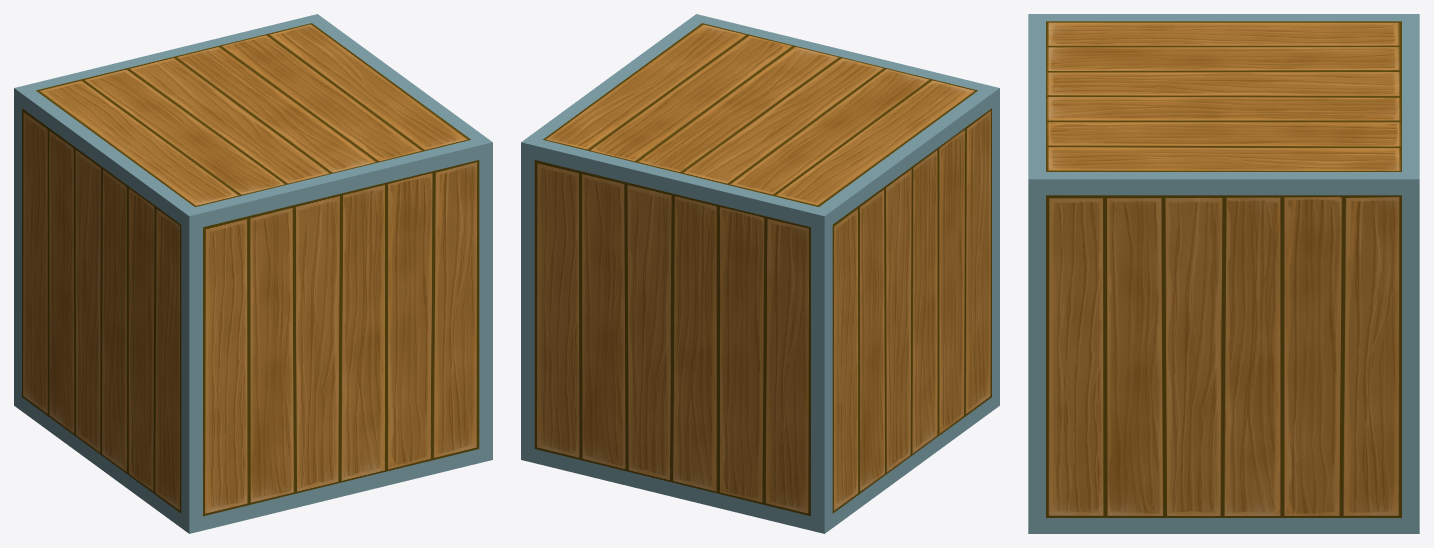
The model's file is brokenwoodcrate.fbx.
3 views of the same model, side by side, from view 1: azimuth 30°, elevation 25°; view 2: azimuth 150°, elevation 25°; view 3: azimuth 270°, elevation 25° (orthographic). The views are drawn at different scales.
Visible parts, largest first — view 1: BrokenWoodCrate.032, BrokenWoodCrate.014, BrokenWoodCrate.028, BrokenWoodCrate.030, BrokenWoodCrate.031, BrokenWoodCrate.029, BrokenWoodCrate.026, BrokenWoodCrate.015, BrokenWoodCrate.024, BrokenWoodCrate.027, BrokenWoodCrate.013, BrokenWoodCrate.025 (+15 smaller); view 2: BrokenWoodCrate.040, BrokenWoodCrate.017, BrokenWoodCrate.041, BrokenWoodCrate.042, BrokenWoodCrate.038, BrokenWoodCrate.039, BrokenWoodCrate.025, BrokenWoodCrate.013, BrokenWoodCrate.024, BrokenWoodCrate.027, BrokenWoodCrate.015, BrokenWoodCrate.026 (+15 smaller); view 3: BrokenWoodCrate.016, BrokenWoodCrate.033, BrokenWoodCrate.034, BrokenWoodCrate.035, BrokenWoodCrate.036, BrokenWoodCrate.037, BrokenWoodCrate.019, BrokenWoodCrate.020, BrokenWoodCrate.021, BrokenWoodCrate.022, BrokenWoodCrate.023, BrokenWoodCrate.018 (+7 smaller).
Boxes of the visible parts, box(x1,y1,x2,y2) form: BrokenWoodCrate.032: box(387, 171, 433, 471); BrokenWoodCrate.014: box(433, 160, 479, 459); BrokenWoodCrate.028: box(203, 216, 248, 516); BrokenWoodCrate.030: box(295, 193, 340, 493); BrokenWoodCrate.031: box(341, 182, 386, 482); BrokenWoodCrate.029: box(249, 205, 294, 504); BrokenWoodCrate.026: box(101, 167, 128, 474); BrokenWoodCrate.015: box(22, 108, 48, 416); BrokenWoodCrate.024: box(48, 128, 74, 435); BrokenWoodCrate.027: box(128, 186, 154, 494); BrokenWoodCrate.013: box(155, 206, 181, 513); BrokenWoodCrate.025: box(75, 147, 101, 454); BrokenWoodCrate.040: box(626, 182, 672, 482); BrokenWoodCrate.017: box(764, 216, 810, 516); BrokenWoodCrate.041: box(672, 193, 718, 493); BrokenWoodCrate.042: box(718, 204, 764, 504); BrokenWoodCrate.038: box(534, 160, 580, 459); BrokenWoodCrate.039: box(580, 171, 626, 470); BrokenWoodCrate.025: box(885, 167, 912, 474); BrokenWoodCrate.013: box(965, 108, 991, 416); BrokenWoodCrate.024: box(859, 186, 885, 494); BrokenWoodCrate.027: box(939, 128, 965, 435); BrokenWoodCrate.015: box(832, 206, 858, 513); BrokenWoodCrate.026: box(912, 147, 938, 454); BrokenWoodCrate.016: box(1342, 195, 1401, 517); BrokenWoodCrate.033: box(1046, 195, 1105, 517); BrokenWoodCrate.034: box(1105, 195, 1164, 517); BrokenWoodCrate.035: box(1164, 195, 1223, 517); BrokenWoodCrate.036: box(1224, 195, 1283, 517); BrokenWoodCrate.037: box(1283, 195, 1342, 517); BrokenWoodCrate.019: box(1046, 121, 1401, 146); BrokenWoodCrate.020: box(1046, 96, 1401, 121); BrokenWoodCrate.021: box(1046, 71, 1401, 96); BrokenWoodCrate.022: box(1046, 46, 1401, 71); BrokenWoodCrate.023: box(1046, 21, 1401, 46); BrokenWoodCrate.018: box(1046, 147, 1401, 171).
Size of the model in its own units: 2 by 2 by 2.
